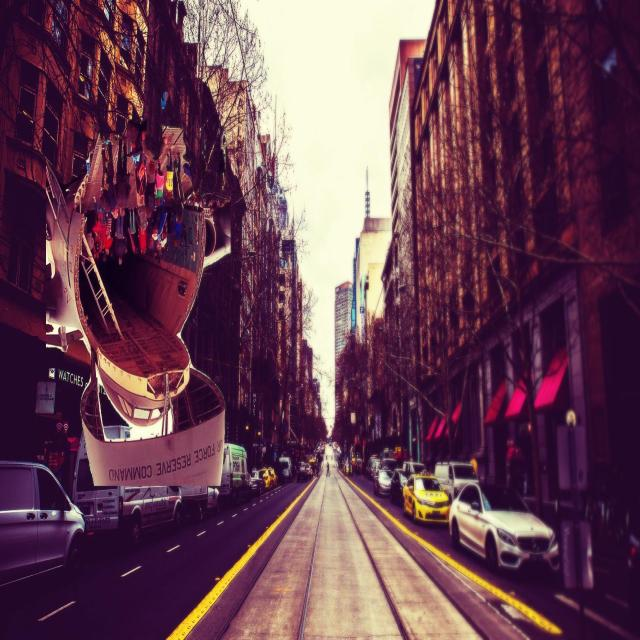airplane: (45, 114, 232, 487)
